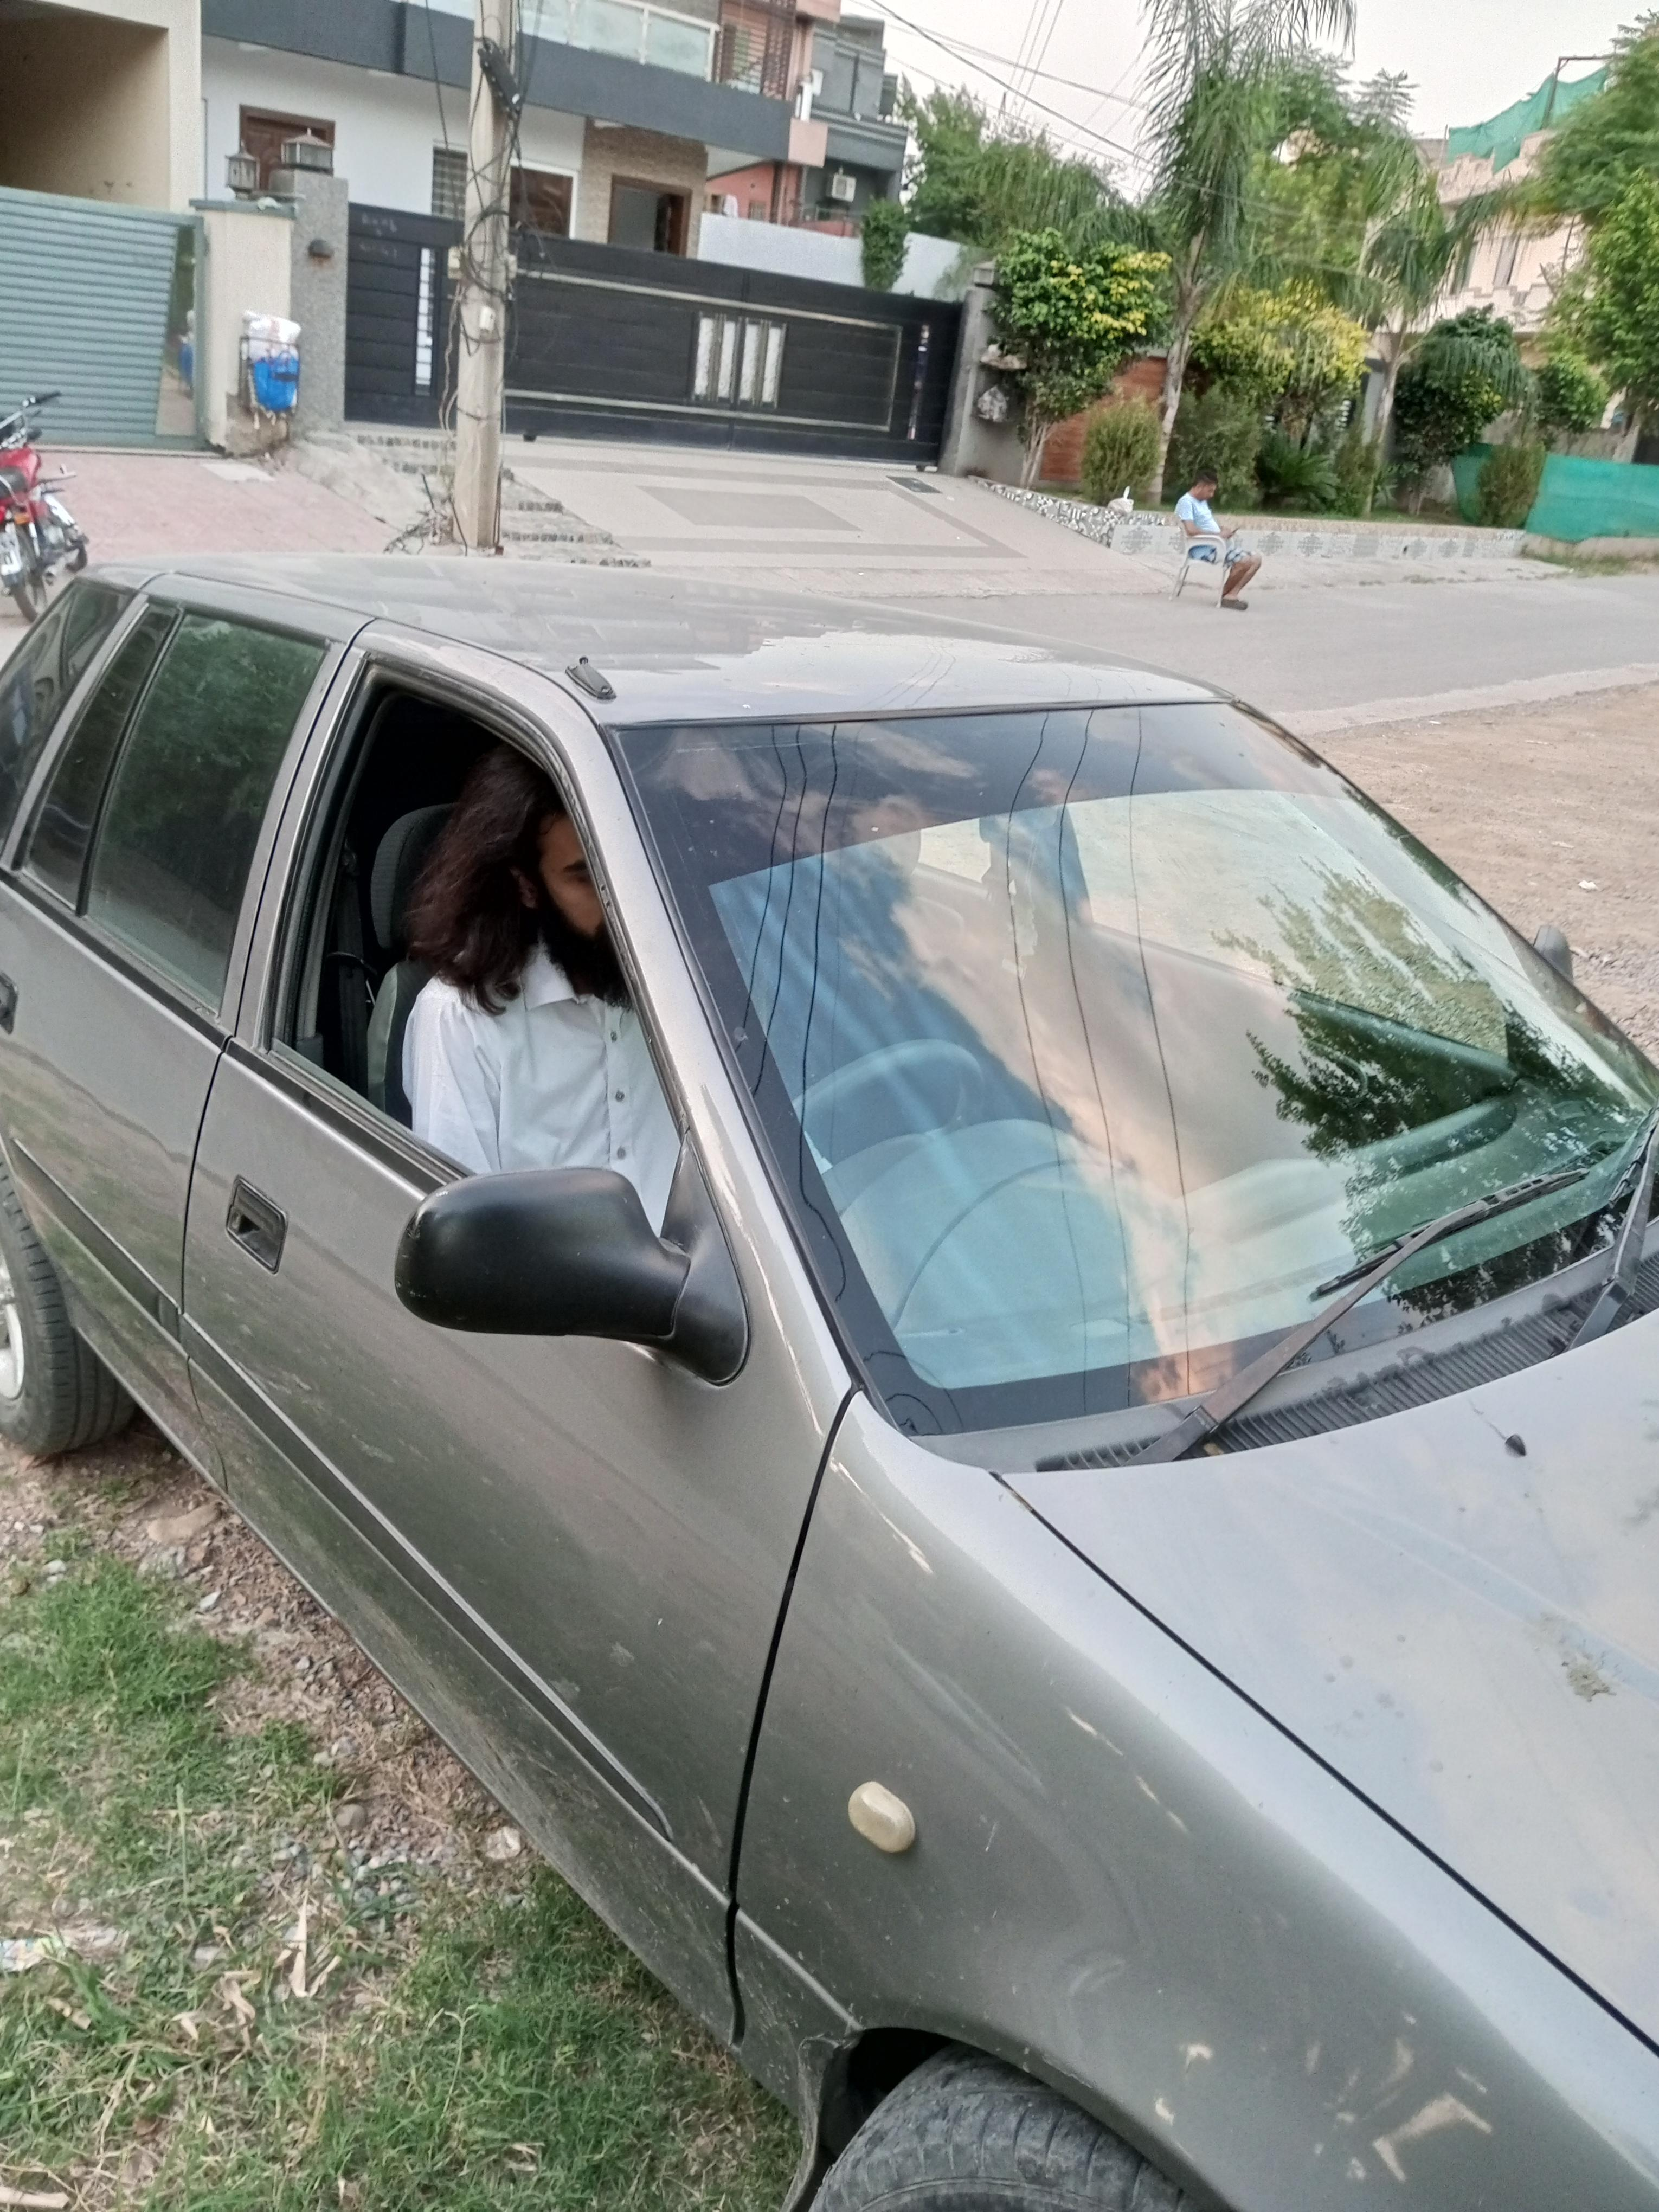windshield: (565, 688, 1659, 1486)
